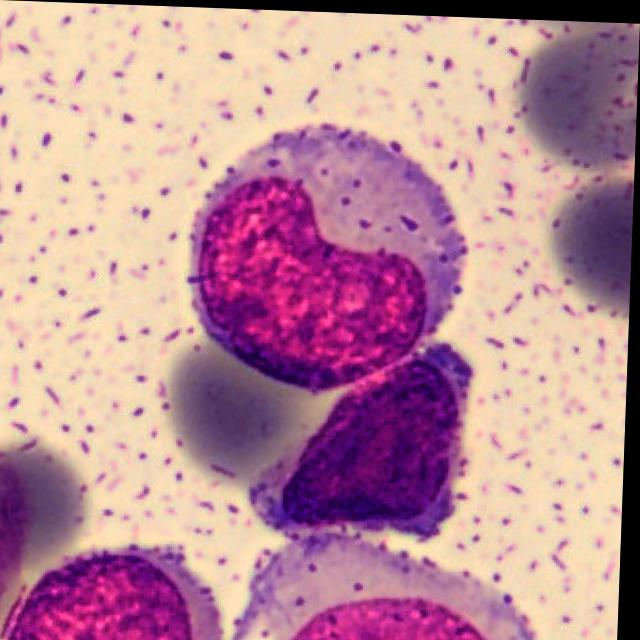Metamielocito: (191, 122, 470, 390)
